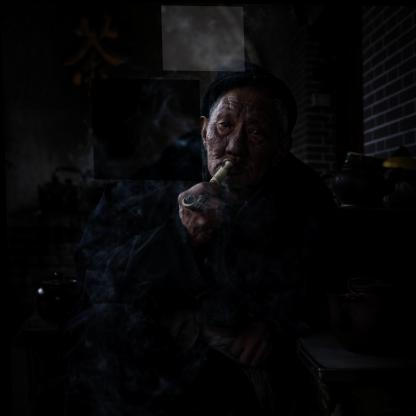smoke: (91, 78, 201, 180), (161, 5, 245, 71)
